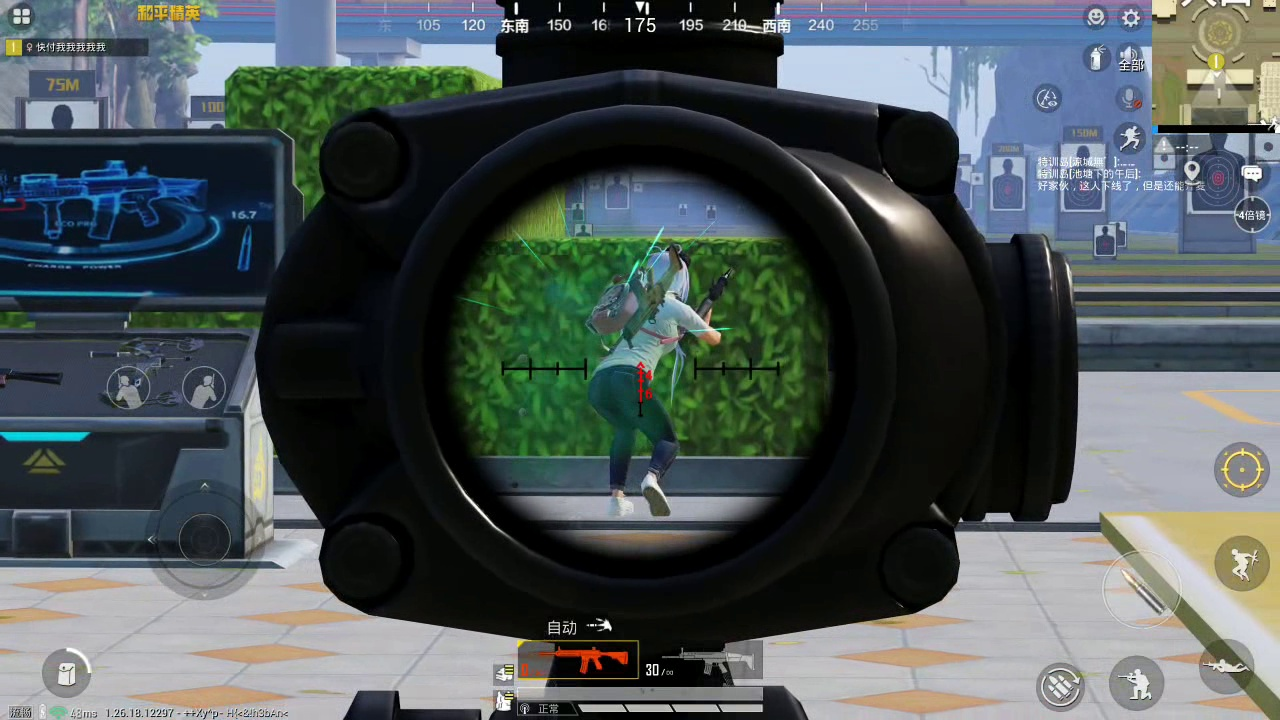enemy: (591, 243, 723, 519)
